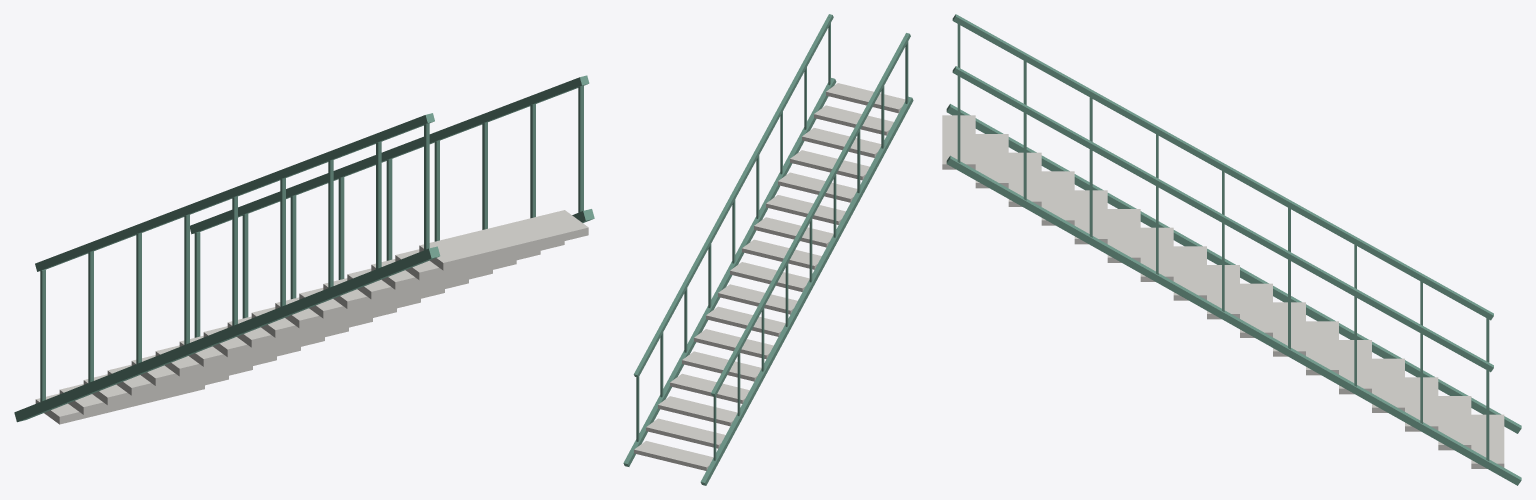
The model's file is outdoor_stair.glb.
3 views of the same model, side by side, from view 1: azimuth 30°, elevation 25°; view 2: azimuth 150°, elevation 25°; view 3: azimuth 270°, elevation 25° (orthographic). The views are drawn at different scales.
Parts seen in each view (by area): view 1: outdoor_stair_post, outdoor_stair_concrete; view 2: outdoor_stair_concrete, outdoor_stair_post; view 3: outdoor_stair_concrete, outdoor_stair_post.
Boxes of the visible parts, left/top/right/bottom form: outdoor_stair_post: left=14, top=75, right=594, bottom=422; outdoor_stair_concrete: left=35, top=210, right=588, bottom=424; outdoor_stair_concrete: left=634, top=83, right=905, bottom=470; outdoor_stair_post: left=623, top=14, right=913, bottom=485; outdoor_stair_concrete: left=942, top=115, right=1504, bottom=468; outdoor_stair_post: left=946, top=14, right=1521, bottom=485.
Bounding box in the file's own units: 1.1 × 3.9 × 4.91.
